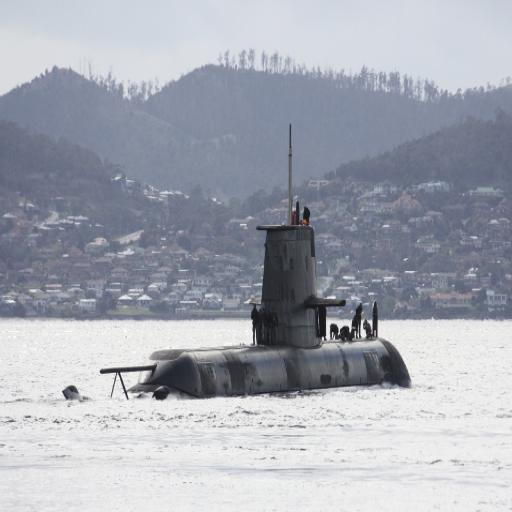submarine: (79, 115, 416, 389)
